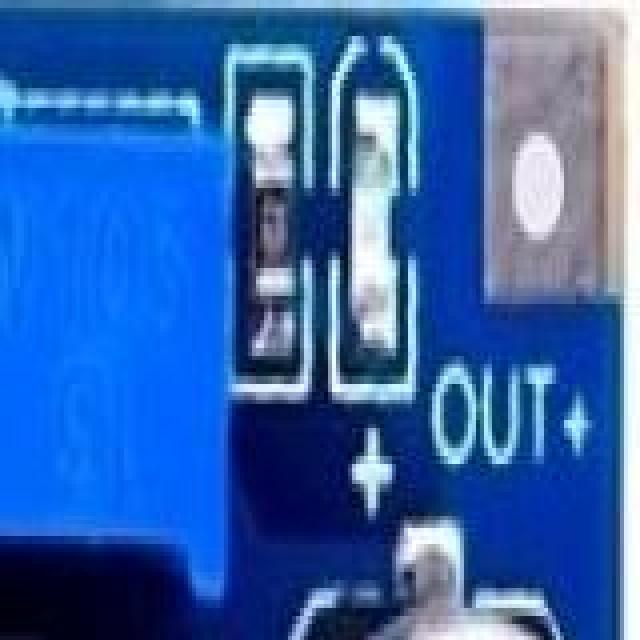LED: (340, 92, 398, 340)
capacitor: (292, 576, 640, 640)
potentiometer: (0, 104, 216, 604)
resistor: (252, 124, 294, 382)
